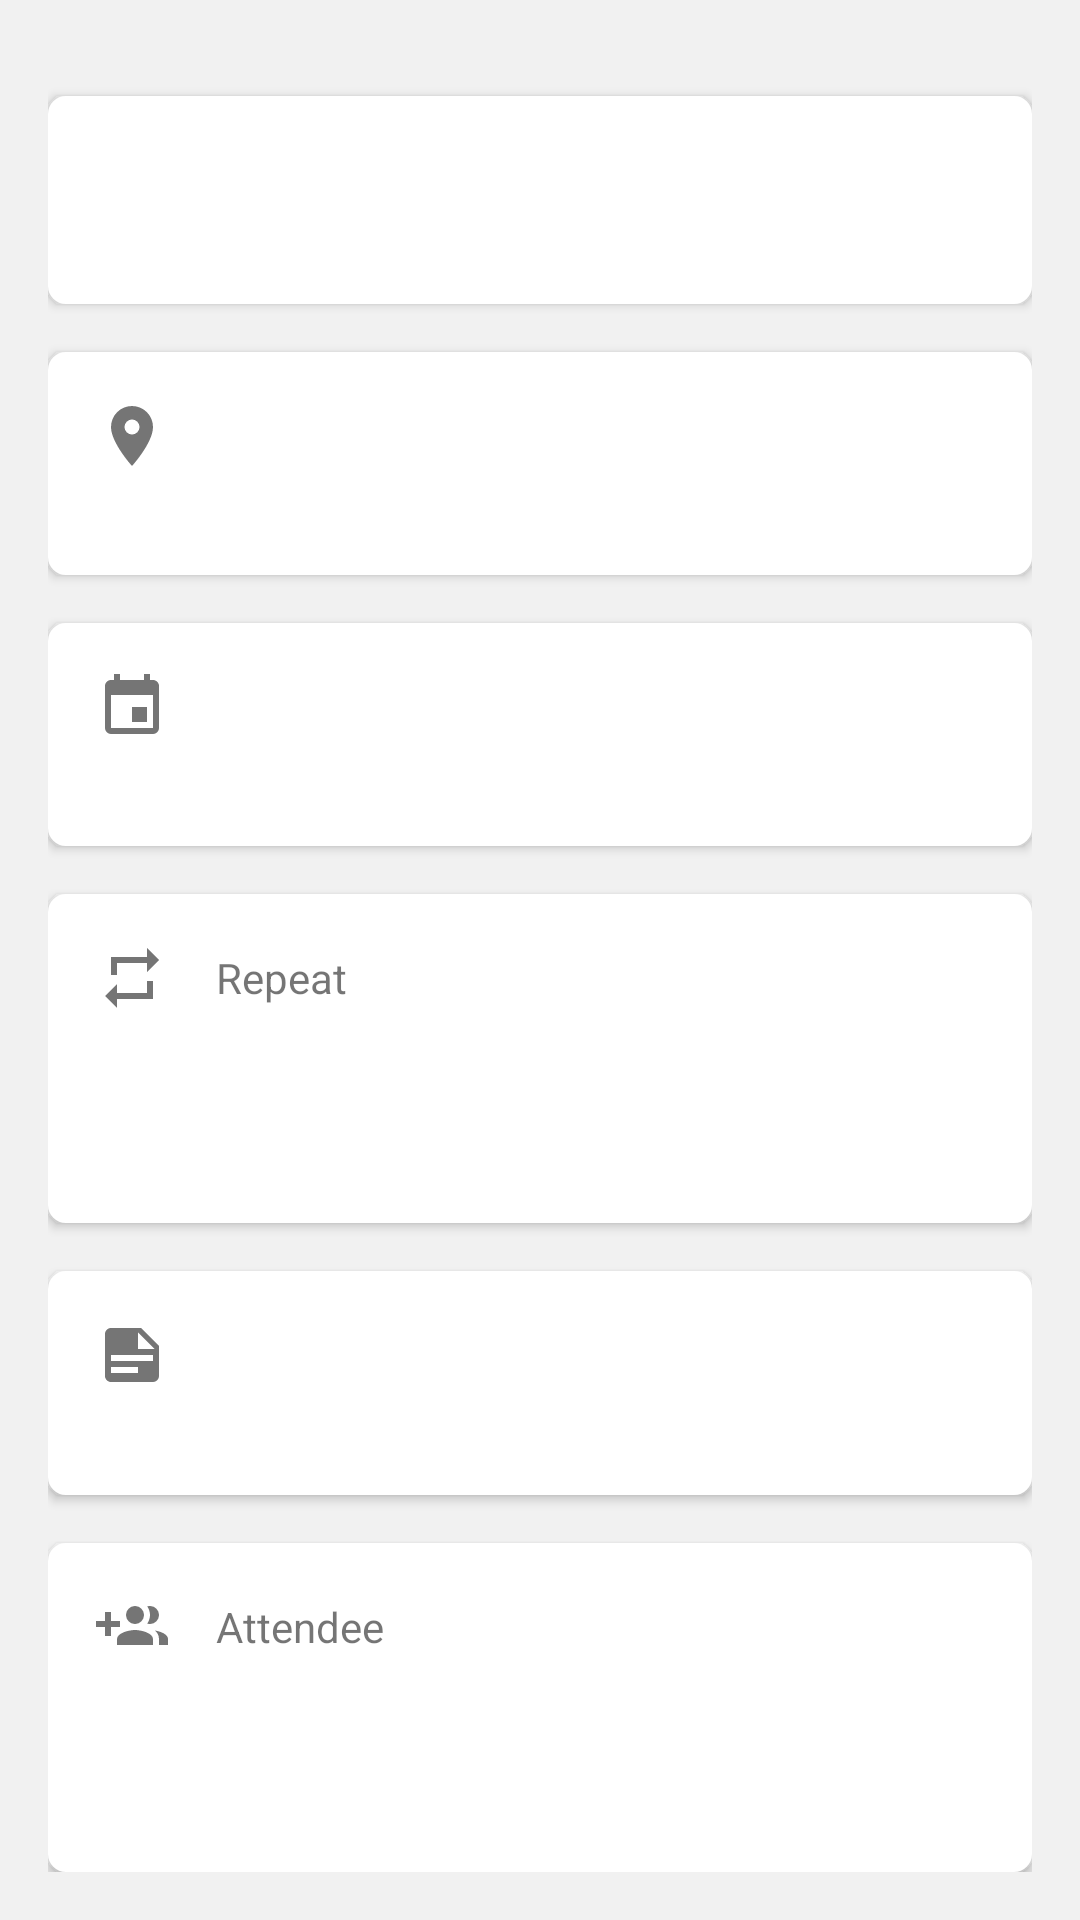

Named icons in this screenshot (1080*1920) and their bounding boxes, {"left": x1, "top": y1, "right": x2, "bottom": y2}:
account multiple plus: {"left": 96, "top": 1606, "right": 168, "bottom": 1645}
calendar: {"left": 105, "top": 674, "right": 159, "bottom": 734}
map marker: {"left": 111, "top": 406, "right": 153, "bottom": 466}
note text: {"left": 105, "top": 1328, "right": 159, "bottom": 1382}
